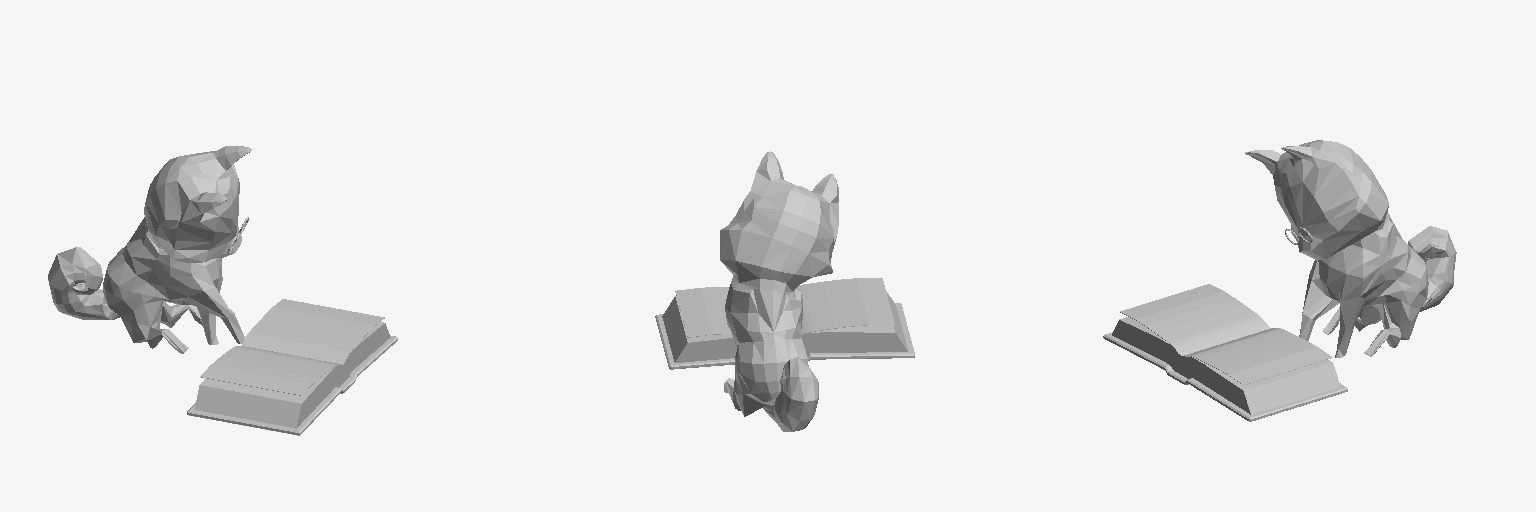
Rendered from book_frame30.obj.
3 renders of one model, left to right at view 1: azimuth 30°, elevation 25°; view 2: azimuth 150°, elevation 25°; view 3: azimuth 270°, elevation 25°, orthographic.
Visible parts, largest first — view 1: StidyGlasses_Computer_Sitting:Sitting:newRigging:BodzL1, polySurface1; view 2: StidyGlasses_Computer_Sitting:Sitting:newRigging:BodzL1, polySurface1; view 3: StidyGlasses_Computer_Sitting:Sitting:newRigging:BodzL1, polySurface1.
Boxes of the visible parts, x1=… form: StidyGlasses_Computer_Sitting:Sitting:newRigging:BodzL1: x1=48, y1=146, x2=251, y2=353; polySurface1: x1=187, y1=299, x2=397, y2=435; StidyGlasses_Computer_Sitting:Sitting:newRigging:BodzL1: x1=720, y1=151, x2=838, y2=431; polySurface1: x1=655, y1=278, x2=914, y2=369; StidyGlasses_Computer_Sitting:Sitting:newRigging:BodzL1: x1=1245, y1=140, x2=1456, y2=357; polySurface1: x1=1103, y1=284, x2=1347, y2=421.
Size of the model in its own units: 9.17 by 7.36 by 11.03.